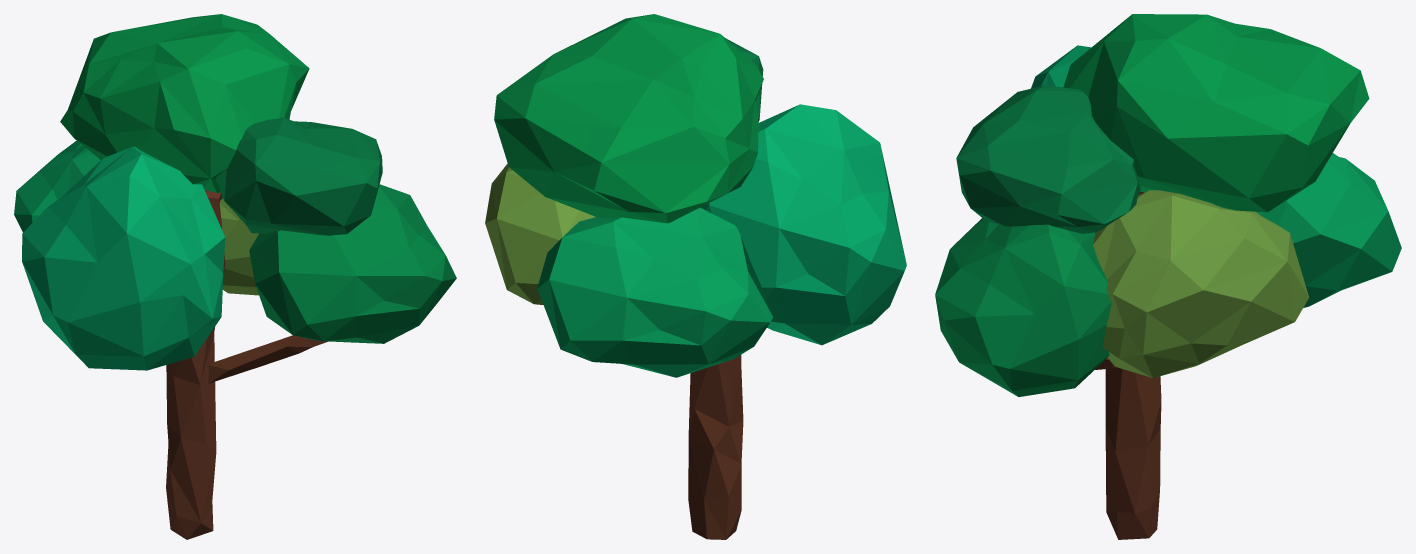
File: Tree_2.fbx
The picture shows the model from 3 angles, left to right: view 1: azimuth 30°, elevation 25°; view 2: azimuth 150°, elevation 25°; view 3: azimuth 270°, elevation 25°; orthographic projection. The views are drawn at different scales.
Parts seen in each view (by area): view 1: Tree_2; view 2: Tree_2; view 3: Tree_2.
Boxes of the visible parts, x1,y1,x2,y2 form: Tree_2: (14, 14, 456, 539); Tree_2: (485, 14, 906, 539); Tree_2: (935, 14, 1401, 539).
Size of the model in its own units: 4.01 by 5.01 by 4.01.
